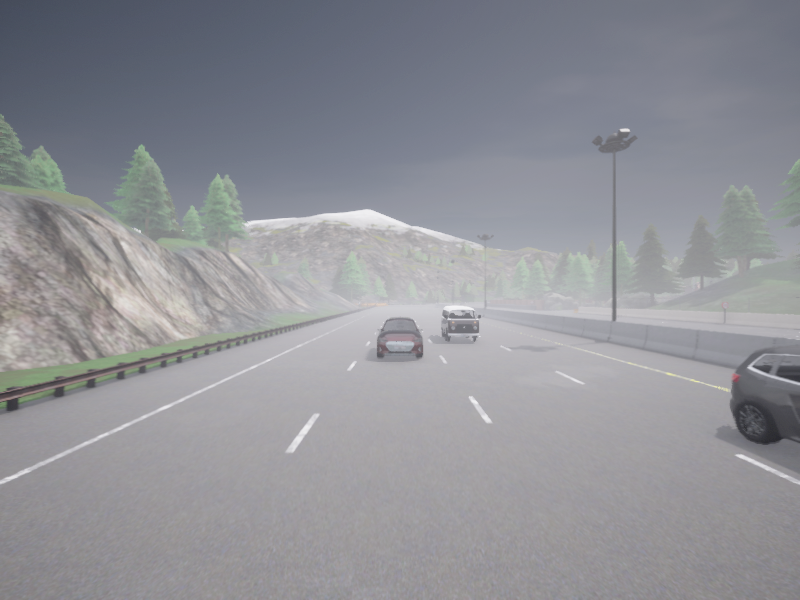vehicle: (729, 345, 799, 443), (377, 317, 422, 358), (441, 306, 480, 341), (460, 302, 465, 304)
